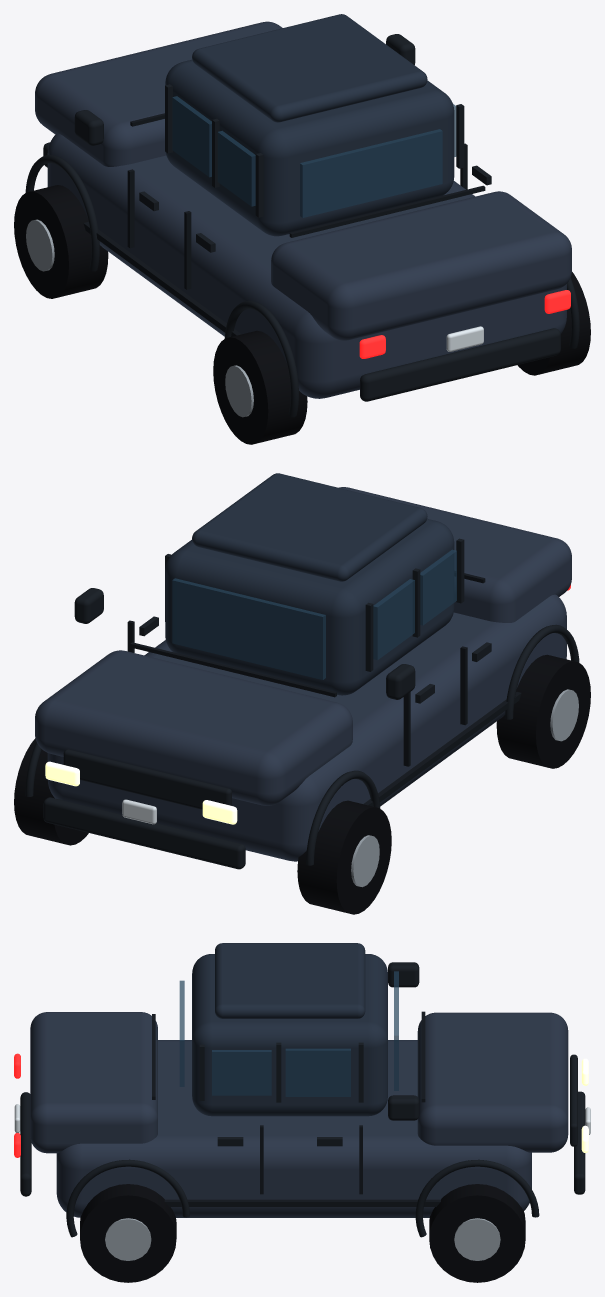
The model's file is passenger_car_near.glb.
3 views of the same model, one above another, from view 1: azimuth 30°, elevation 25°; view 2: azimuth 150°, elevation 25°; view 3: azimuth 270°, elevation 25° (orthographic). The views are drawn at different scales.
Visible parts, largest first — view 1: passenger_car_near_rounded_sedan_lower_body_panel, passenger_car_near_rounded_passenger_cabin_body_panel, passenger_car_near_rear_trunk_deck_body_panel_with_soft_beve, passenger_car_near_subtle_roof_panel_bevel, passenger_car_near_front_hood_body_panel_with_soft_bevel, passenger_car_near_rear_window_glass, passenger_car_near_rear_left_wheel_tire, passenger_car_near_front_left_wheel_tire, passenger_car_near_rear_bumper_dark_trim, passenger_car_near_left_front_door_window_glass, passenger_car_near_left_rear_door_window_glass, passenger_car_near_rear_right_wheel_tire (+12 smaller); view 2: passenger_car_near_rounded_passenger_cabin_body_panel, passenger_car_near_front_hood_body_panel_with_soft_bevel, passenger_car_near_rounded_sedan_lower_body_panel, passenger_car_near_subtle_roof_panel_bevel, passenger_car_near_front_windshield_glass, passenger_car_near_rear_trunk_deck_body_panel_with_soft_beve, passenger_car_near_front_left_wheel_tire, passenger_car_near_rear_left_wheel_tire, passenger_car_near_front_lower_air_intake_body_panel_break, passenger_car_near_front_grille_dark_trim, passenger_car_near_front_right_wheel_tire, passenger_car_near_left_front_door_window_glass (+16 smaller); view 3: passenger_car_near_rounded_sedan_lower_body_panel, passenger_car_near_rounded_passenger_cabin_body_panel, passenger_car_near_front_hood_body_panel_with_soft_bevel, passenger_car_near_rear_trunk_deck_body_panel_with_soft_beve, passenger_car_near_subtle_roof_panel_bevel, passenger_car_near_front_right_wheel_tire, passenger_car_near_rear_right_wheel_tire, passenger_car_near_right_front_door_window_glass, passenger_car_near_right_rear_door_window_glass, passenger_car_near_right_lower_rocker_body_panel_break, passenger_car_near_rear_right_wheel_outer_hub, passenger_car_near_front_right_wheel_outer_hub (+10 smaller).
Part boxes in pixels (box(x1,y1,x2,y2)): passenger_car_near_rounded_sedan_lower_body_panel: box(47, 133, 566, 398); passenger_car_near_rounded_passenger_cabin_body_panel: box(165, 59, 454, 236); passenger_car_near_rear_trunk_deck_body_panel_with_soft_beve: box(271, 191, 571, 340); passenger_car_near_subtle_roof_panel_bevel: box(192, 14, 427, 122); passenger_car_near_front_hood_body_panel_with_soft_bevel: box(35, 21, 282, 166); passenger_car_near_rear_window_glass: box(300, 129, 442, 217); passenger_car_near_rear_left_wheel_tire: box(213, 330, 307, 444); passenger_car_near_front_left_wheel_tire: box(14, 185, 108, 298); passenger_car_near_rear_bumper_dark_trim: box(360, 328, 560, 401); passenger_car_near_left_front_door_window_glass: box(172, 96, 211, 177); passenger_car_near_left_rear_door_window_glass: box(217, 130, 255, 206); passenger_car_near_rear_right_wheel_tire: box(517, 272, 590, 375); passenger_car_near_rounded_passenger_cabin_body_panel: box(165, 519, 454, 695); passenger_car_near_front_hood_body_panel_with_soft_bevel: box(35, 650, 352, 805); passenger_car_near_rounded_sedan_lower_body_panel: box(47, 594, 566, 861); passenger_car_near_subtle_roof_panel_bevel: box(192, 473, 427, 581); passenger_car_near_front_windshield_glass: box(172, 578, 325, 679); passenger_car_near_rear_trunk_deck_body_panel_with_soft_beve: box(339, 487, 571, 622); passenger_car_near_front_left_wheel_tire: box(297, 800, 391, 914); passenger_car_near_rear_left_wheel_tire: box(496, 654, 590, 768); passenger_car_near_front_lower_air_intake_body_panel_break: box(43, 797, 245, 869); passenger_car_near_front_grille_dark_trim: box(63, 749, 231, 809); passenger_car_near_front_right_wheel_tire: box(14, 738, 88, 845); passenger_car_near_left_front_door_window_glass: box(373, 579, 414, 660); passenger_car_near_rounded_sedan_lower_body_panel: box(56, 1040, 531, 1217); passenger_car_near_rounded_passenger_cabin_body_panel: box(192, 954, 387, 1116); passenger_car_near_front_hood_body_panel_with_soft_bevel: box(417, 1012, 568, 1152); passenger_car_near_rear_trunk_deck_body_panel_with_soft_beve: box(30, 1012, 157, 1153); passenger_car_near_subtle_roof_panel_bevel: box(215, 943, 365, 1018); passenger_car_near_front_right_wheel_tire: box(429, 1184, 525, 1282); passenger_car_near_rear_right_wheel_tire: box(80, 1184, 176, 1282); passenger_car_near_right_front_door_window_glass: box(285, 1048, 350, 1096); passenger_car_near_right_rear_door_window_glass: box(212, 1050, 271, 1095); passenger_car_near_right_lower_rocker_body_panel_break: box(164, 1199, 440, 1206); passenger_car_near_rear_right_wheel_outer_hub: box(105, 1218, 151, 1260); passenger_car_near_front_right_wheel_outer_hub: box(454, 1218, 500, 1260).
Bounding box in the file's own units: 2.33 × 1.87 × 4.06.
